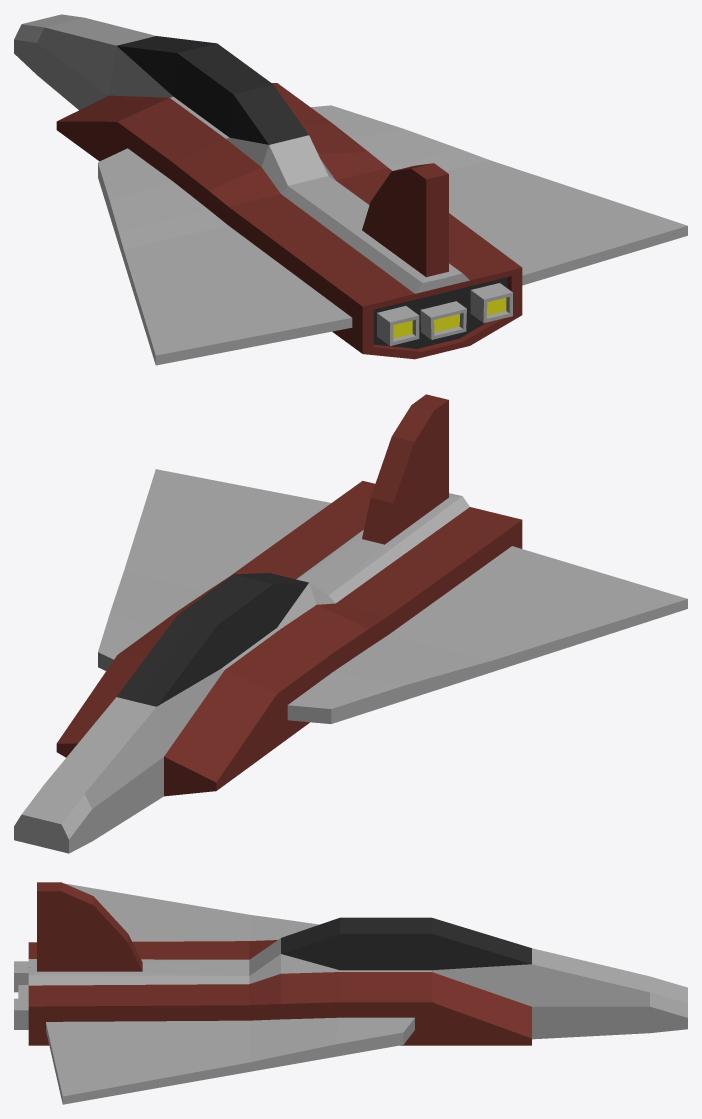
The model's file is PlayerShip1.fbx.
3 views of the same model, one above another, from view 1: azimuth 30°, elevation 25°; view 2: azimuth 150°, elevation 25°; view 3: azimuth 270°, elevation 25° (orthographic). The views are drawn at different scales.
Visible parts, largest first — view 1: ShipMesh; view 2: ShipMesh; view 3: ShipMesh.
Part boxes in pixels (box(x1,y1,x2,y2)): ShipMesh: box(14, 14, 687, 365); ShipMesh: box(14, 394, 687, 853); ShipMesh: box(14, 882, 687, 1104).
Bounding box in the file's own units: 120 × 37.2 × 161.
